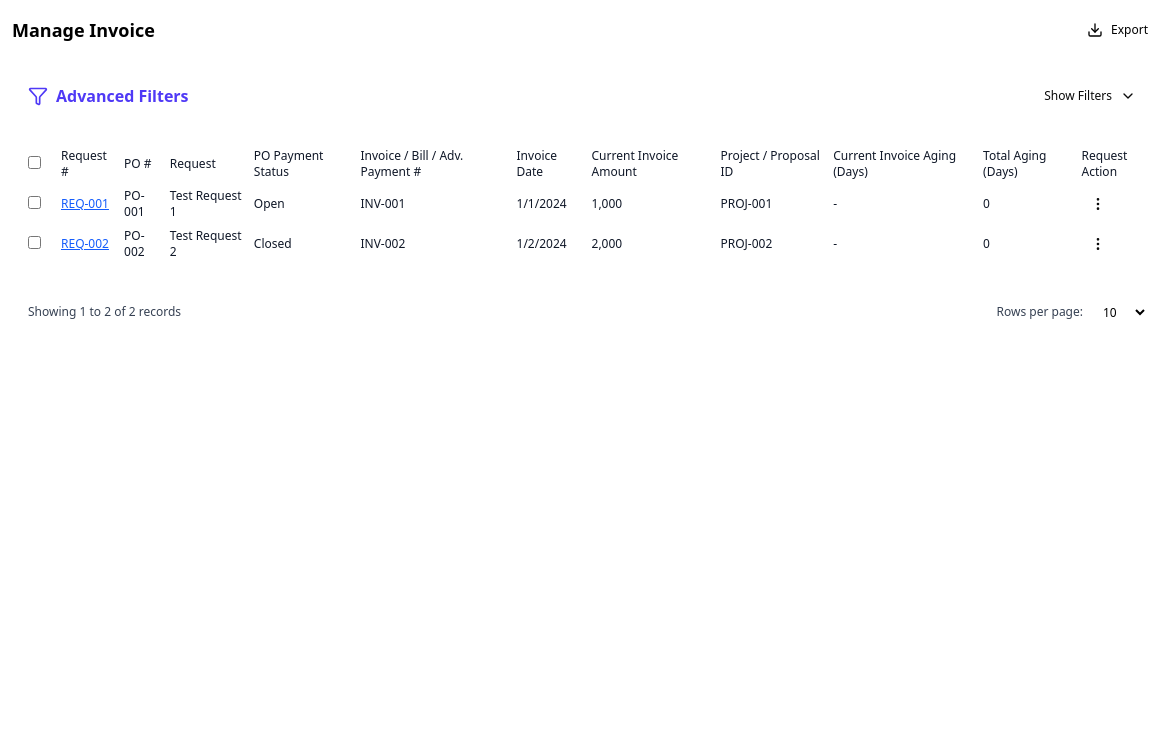
InvoicesContent Component › should calculate pagination correctly for "All" page size
The width and height of the screenshot is (1176, 732).
Expected: the button "REQ-001" is shown, [61, 196, 109, 212]
// Trigger applying filters which will use "All" page size conversion
Click the button "Show Filters": [1090, 96] box [1032, 80, 1148, 112]
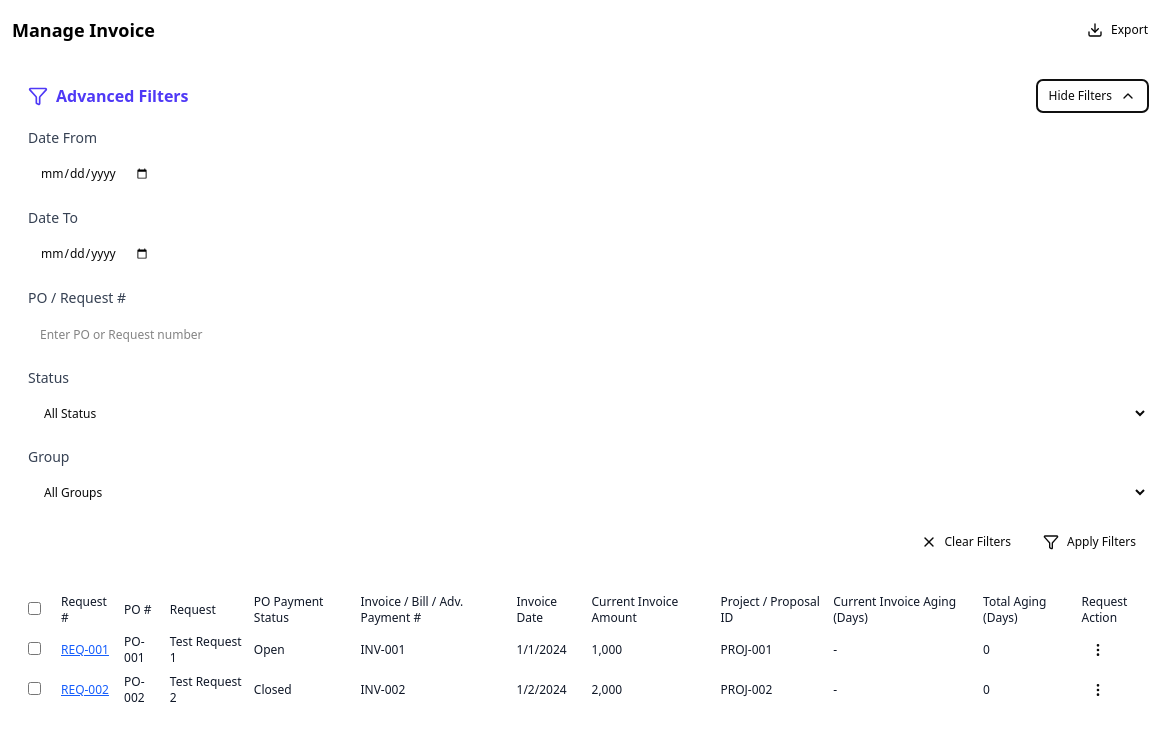
Now the date field labelled "Date From" is shown, box [28, 156, 1148, 192]
